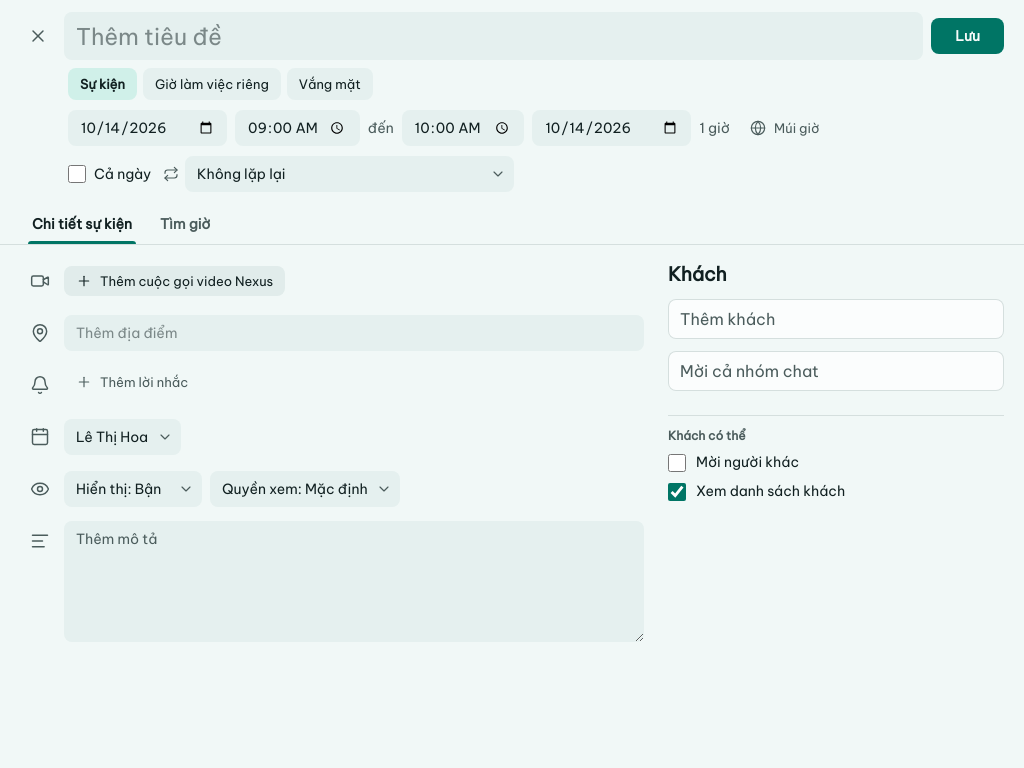
Test case: the times › names the error on Lưu even when no field was left
The image size is (1024, 768).
Replace the text in the time field named "Giờ kết thúc" with "09:00": coordinates (463, 128) [402,110,524,146]
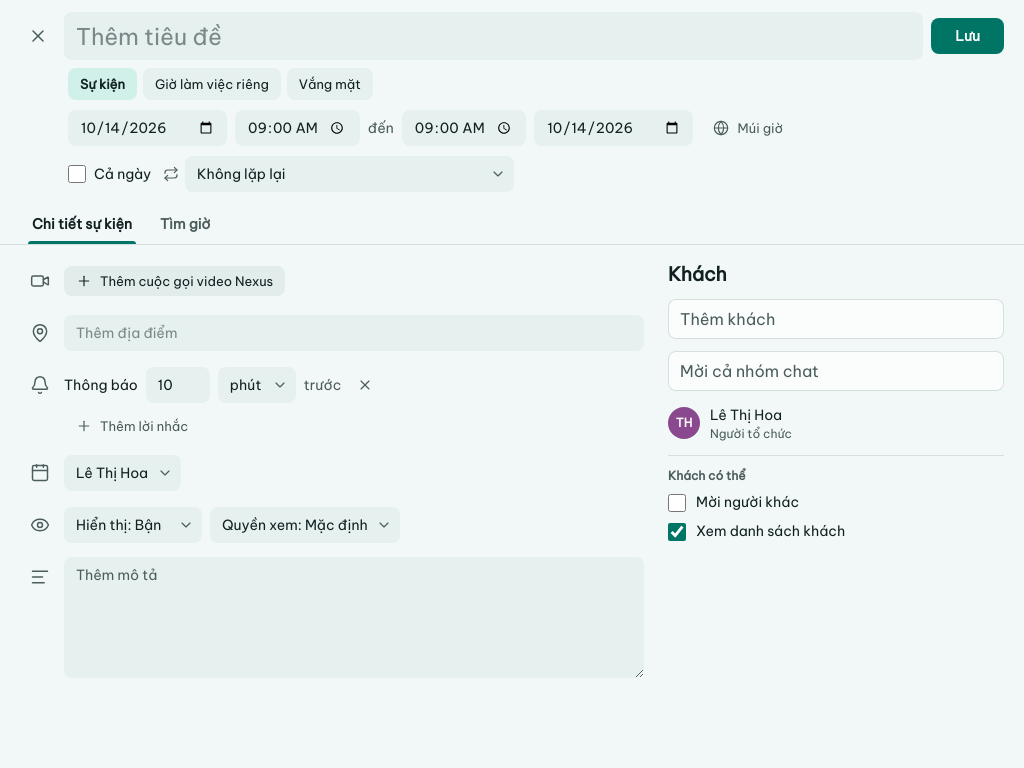
Click the button "Lưu": coordinates (968, 36) [931,18,1004,54]
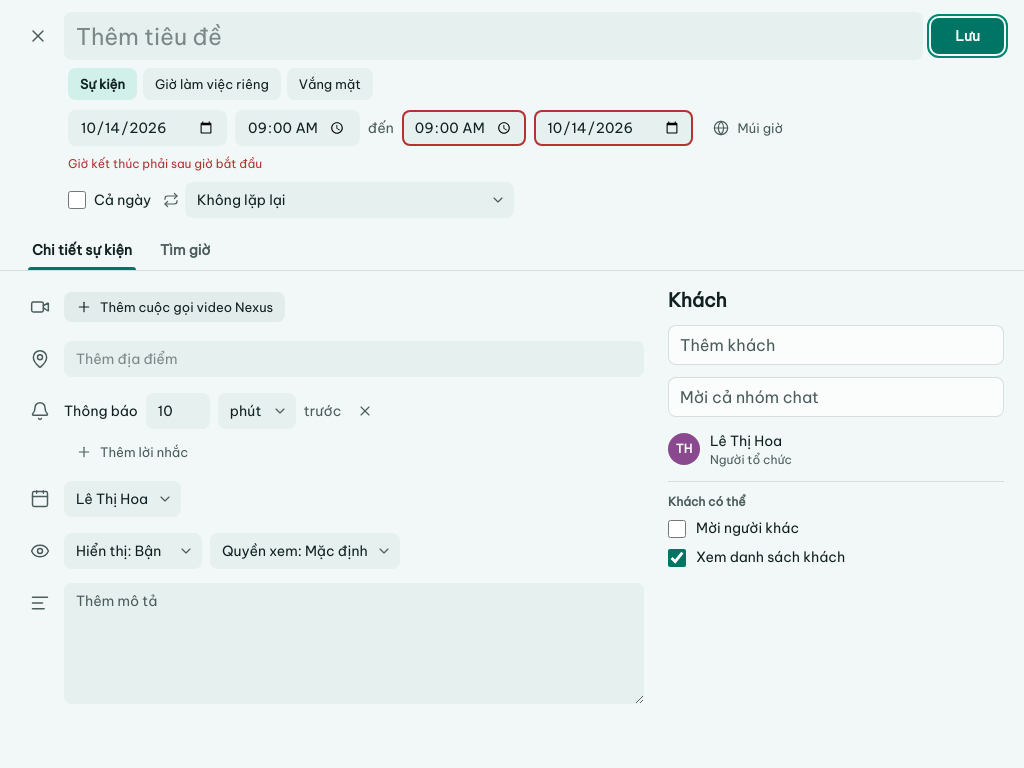
Expected: the message reads "Giờ kết thúc phải sau giờ bắt đầu", [68,156,262,171]
